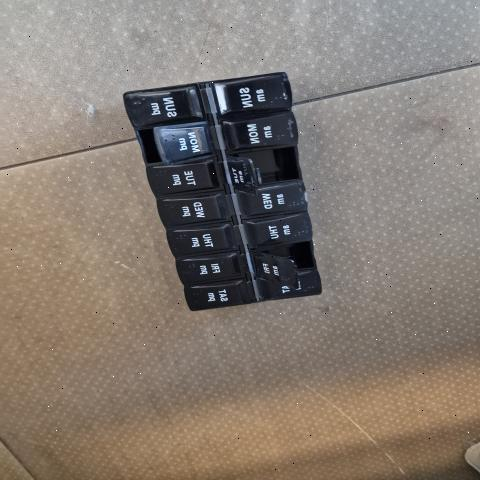Open: (230, 149, 300, 188), (259, 238, 318, 272), (137, 128, 165, 164)
